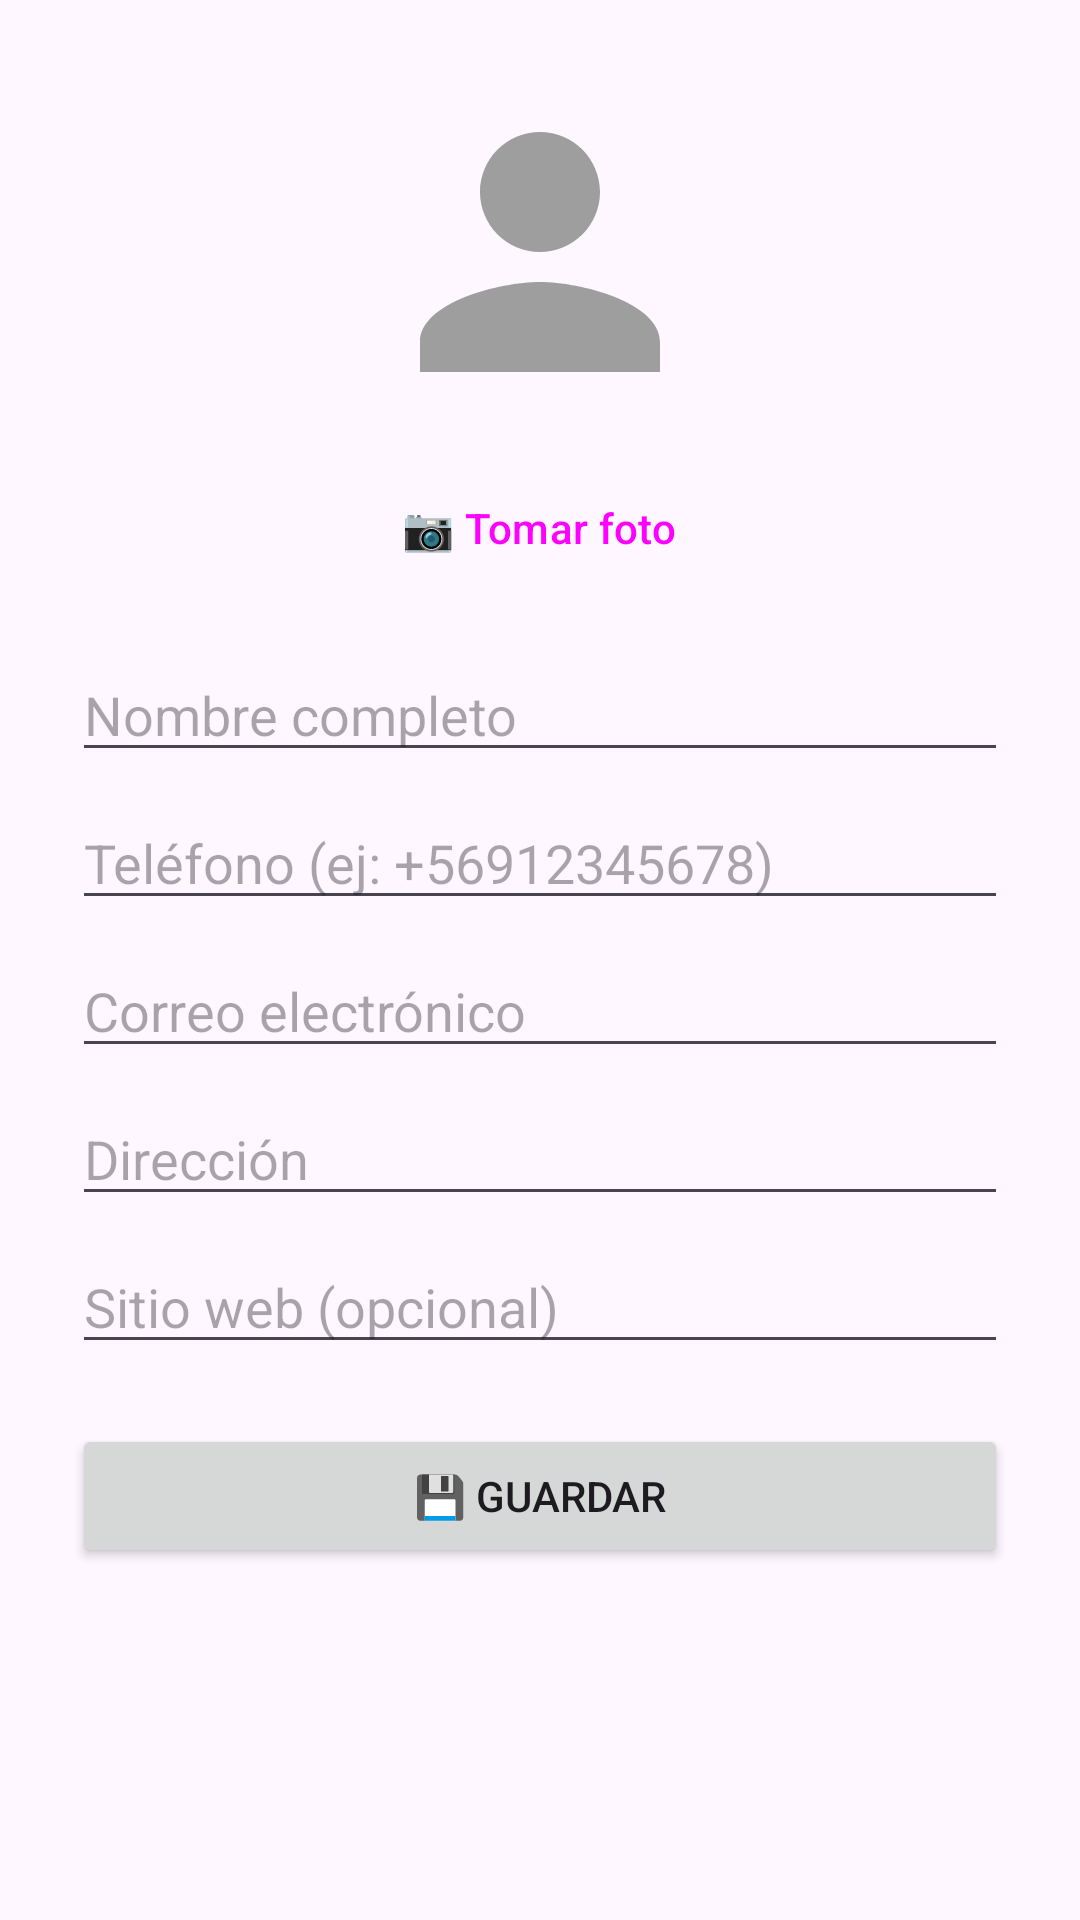

Icon click points for this 1080*1920 phone screenshot, format [x,y]:
Foto del contacto: [540,252]
